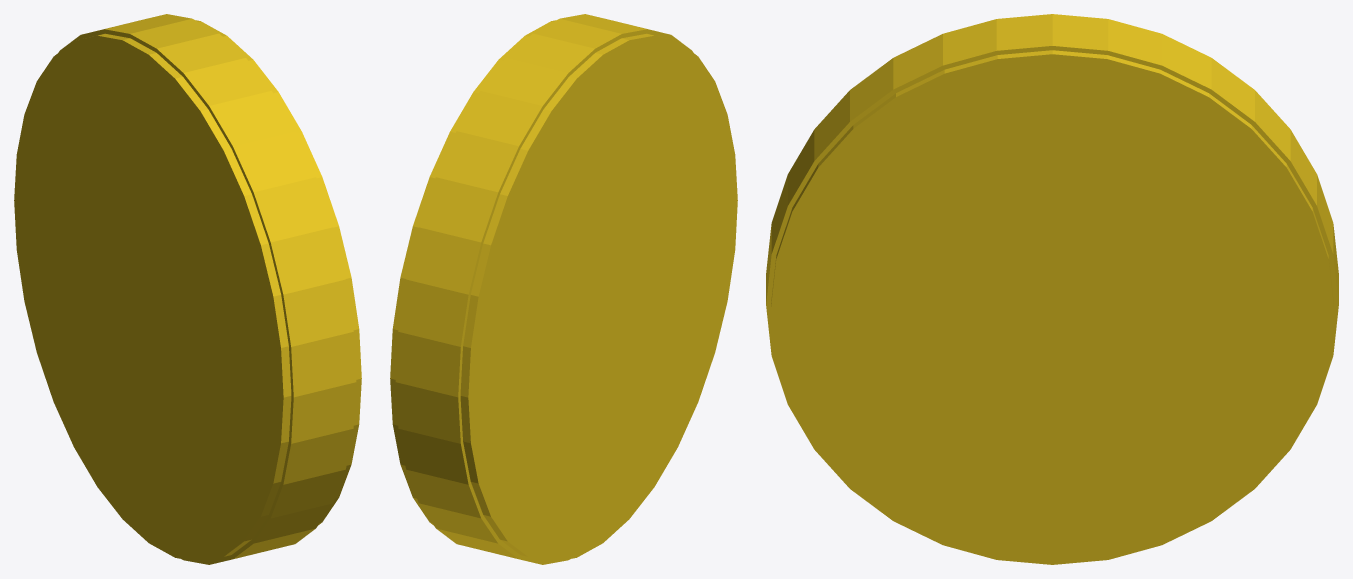
Rendered from tipjarcoin.fbx.
The picture shows the model from 3 angles, left to right: view 1: azimuth 30°, elevation 25°; view 2: azimuth 150°, elevation 25°; view 3: azimuth 270°, elevation 25°; orthographic projection. The views are drawn at different scales.
Parts seen in each view (by area): view 1: Cylinder; view 2: Cylinder; view 3: Cylinder.
Part boxes in pixels (x1,y1,x2,y2): Cylinder: (14, 14, 361, 564); Cylinder: (390, 14, 737, 564); Cylinder: (766, 14, 1338, 564).
Size of the model in its own units: 4.85 by 29.41 by 29.41.
